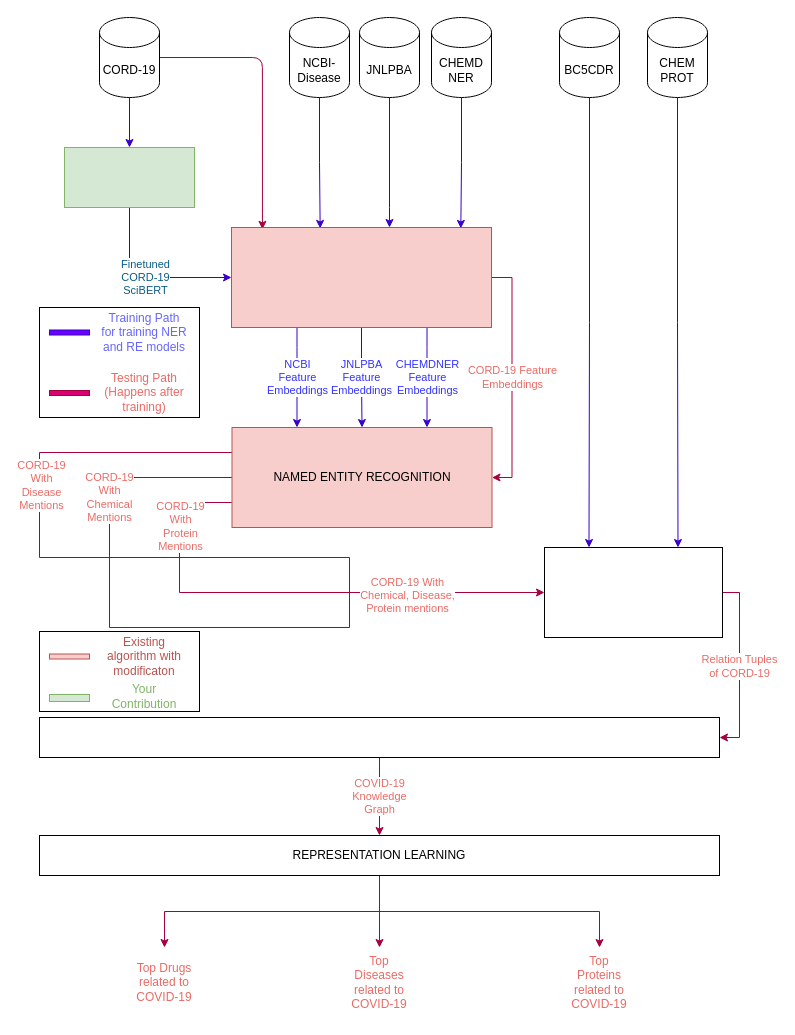
Image size: 795x1035. Some labels were removed from this diagram. Each missing label, with the centre of its shape:
FEATURE EXTRACTION: point 361,277
GRAPH CONSTRUCTION: point 379,737
PREPROCESSING: point 129,177
RELATION EXTRACTION: point 633,592
